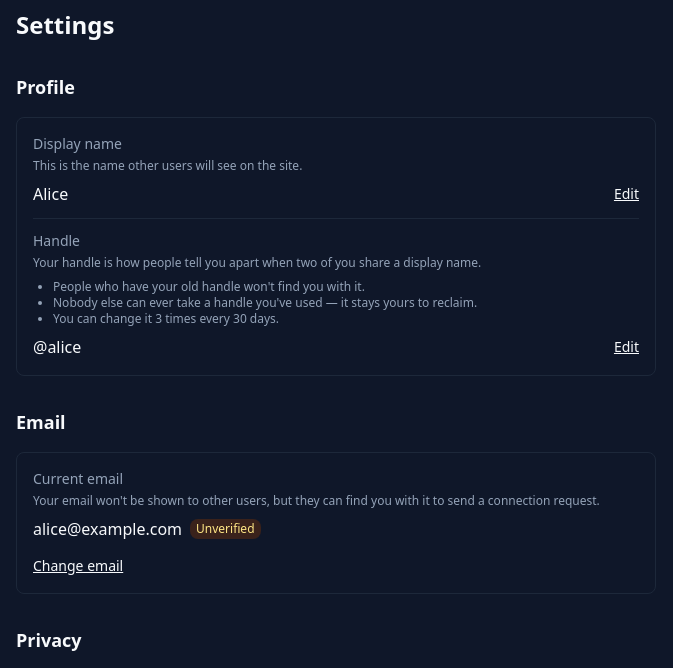
Test case: SettingsPage › shows the server's field message inline when a 422 names display_name
Expected: the text "Alice" is shown, [33, 182, 68, 206]
Click the button with aria-label "edit display name" at (626,194), box [614, 184, 639, 204]
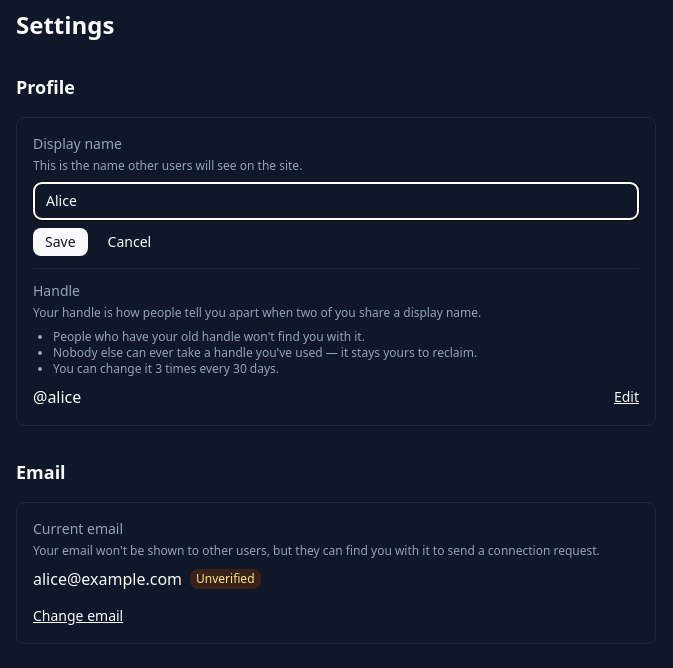
Replace the text in the field named "display name" with "a@b.c" at (336,201), box [33, 182, 639, 220]
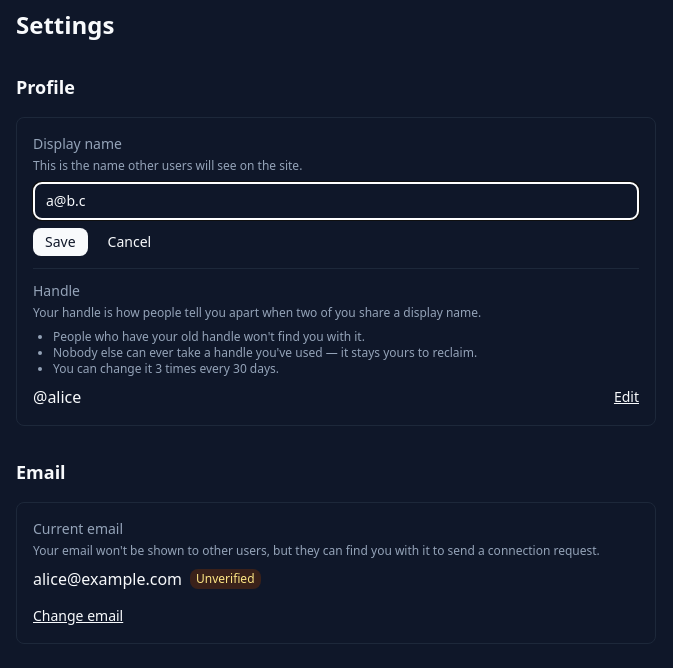
Click the button "Save" at (60,242), box [33, 228, 88, 256]
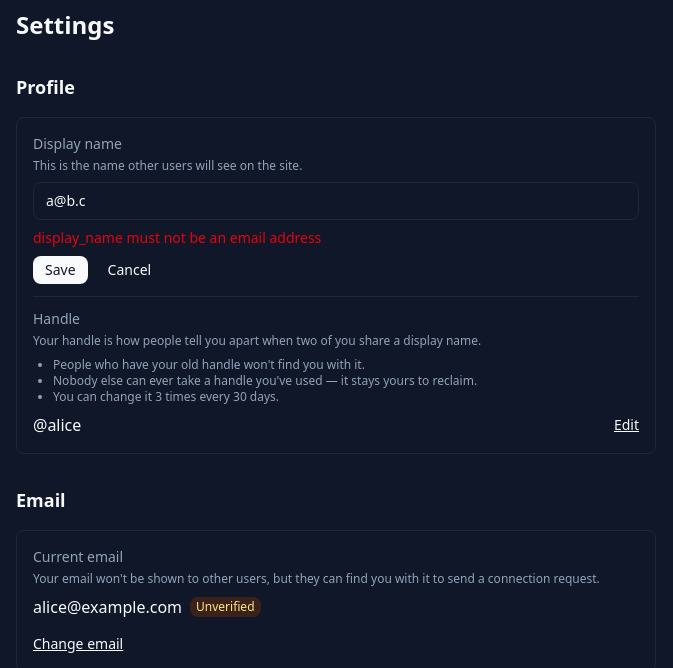
Result: the text "display_name must not be an email address" is shown at [33, 228, 321, 247]
